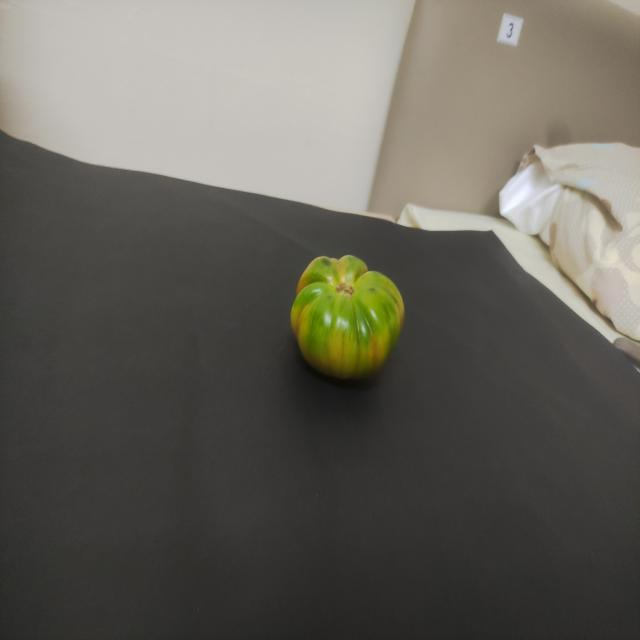yesil: (282, 238, 407, 392)
